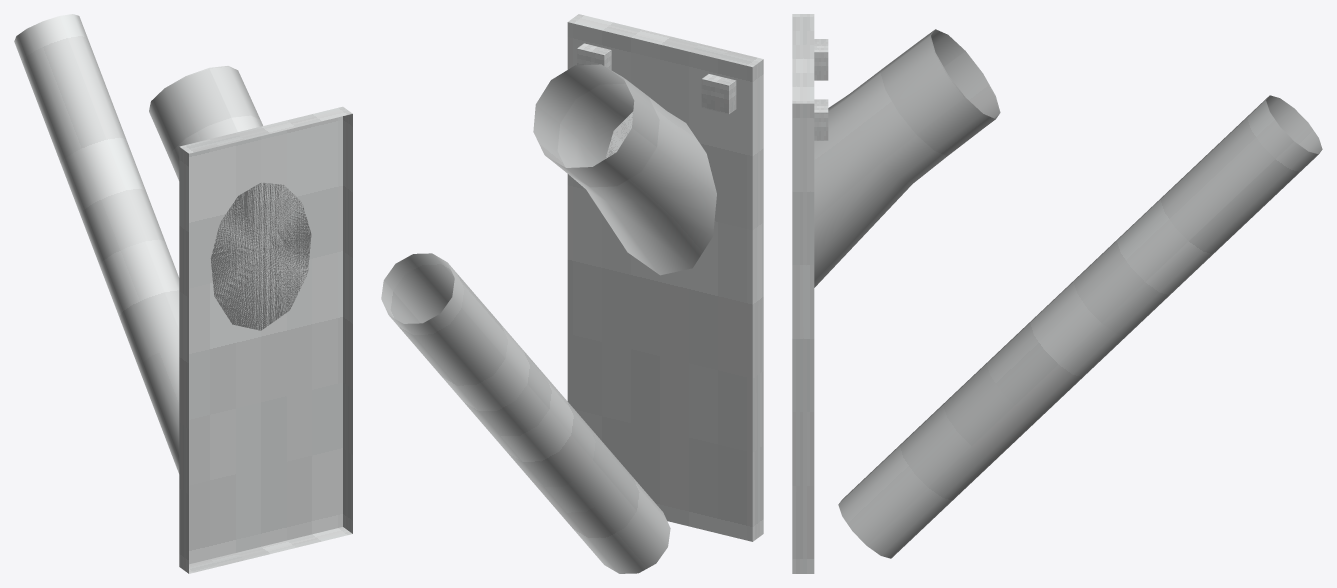
The model's file is luminairearm_truss8ftdouble_c0_wall.obj.
3 views of the same model, side by side, from view 1: azimuth 30°, elevation 25°; view 2: azimuth 150°, elevation 25°; view 3: azimuth 270°, elevation 25° (orthographic). The views are drawn at different scales.
Parts seen in each view (by area): view 1: luminairearm_truss8ftdouble_c0_wall; view 2: luminairearm_truss8ftdouble_c0_wall; view 3: luminairearm_truss8ftdouble_c0_wall.
Part boxes in pixels (<box>): luminairearm_truss8ftdouble_c0_wall: <box>14,14,352,573</box>; luminairearm_truss8ftdouble_c0_wall: <box>381,14,763,573</box>; luminairearm_truss8ftdouble_c0_wall: <box>792,14,1322,573</box>.
Bounding box in the file's own units: 0.4219 × 1.14 × 1.06.
